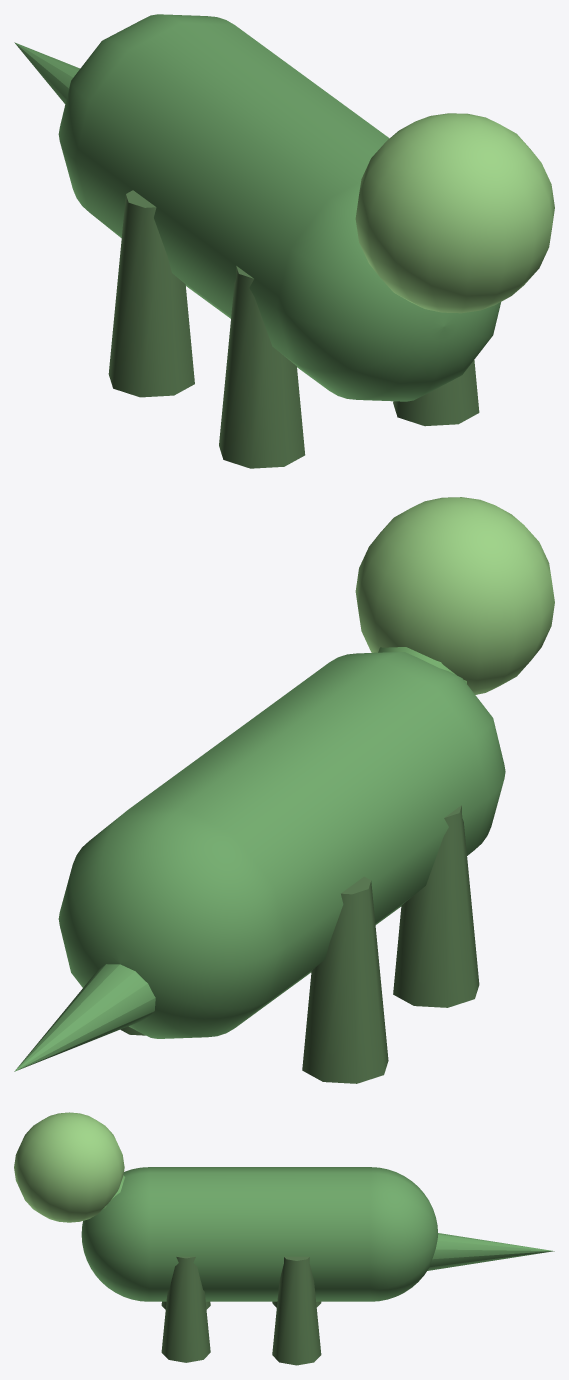
The model's file is dino.glb.
3 renders of one model, top to bottom at view 1: azimuth 30°, elevation 25°; view 2: azimuth 150°, elevation 25°; view 3: azimuth 270°, elevation 25°, orthographic. The views are drawn at different scales.
Size of the model in its own units: 1.4 by 1.9 by 4.4.
